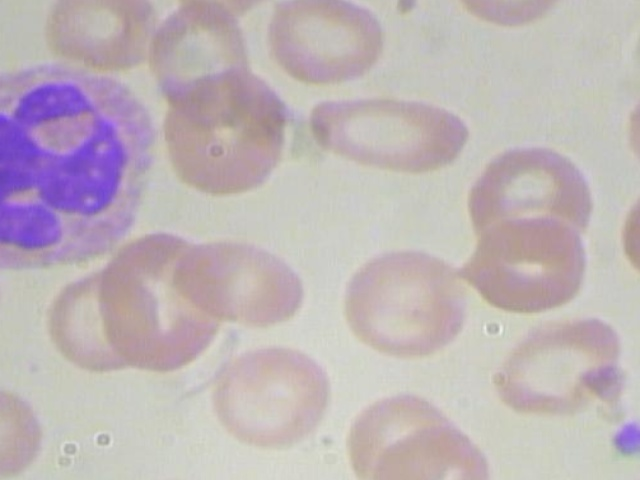Platelets: (603, 414, 640, 463), (0, 0, 3, 8)
RBC: (481, 301, 637, 419), (295, 86, 488, 178), (453, 206, 602, 321), (337, 241, 474, 362), (163, 239, 324, 331), (205, 337, 338, 448), (253, 0, 408, 88), (33, 0, 167, 84), (369, 419, 498, 480), (0, 375, 62, 480), (614, 75, 640, 202), (618, 167, 640, 294)
WBC: (0, 63, 166, 286)
